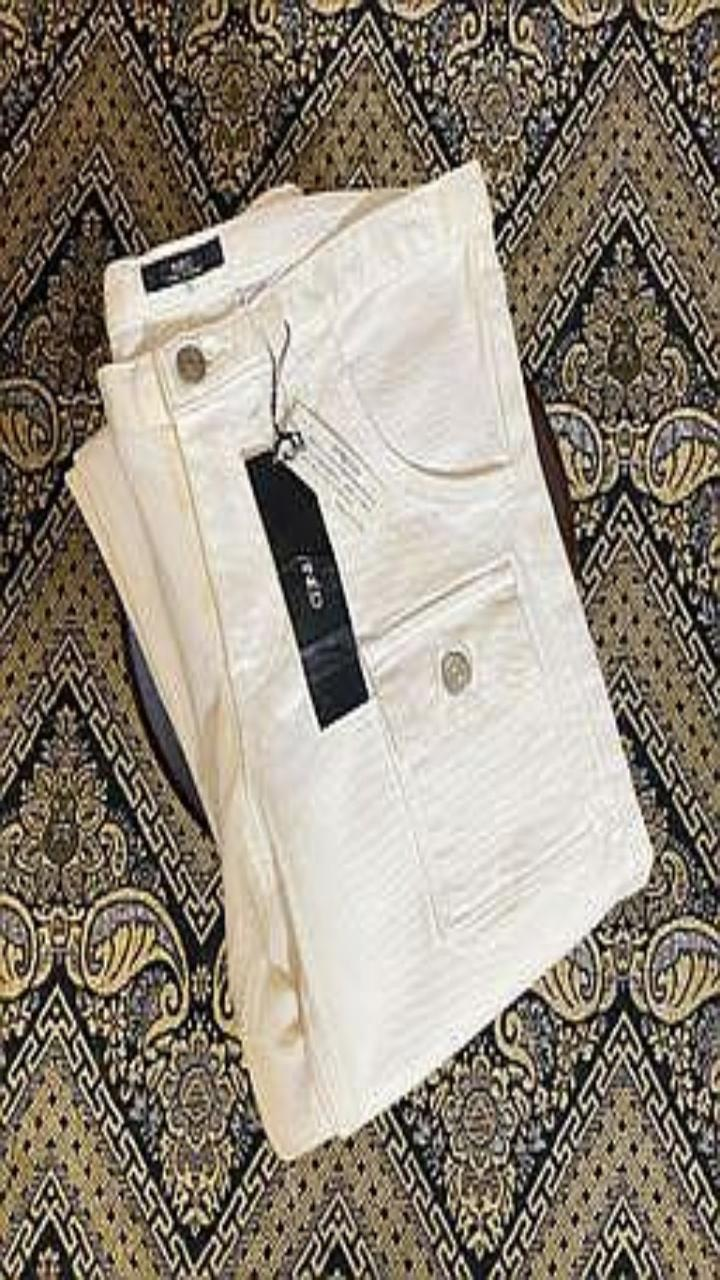Shorts: (69, 161, 651, 1157)
